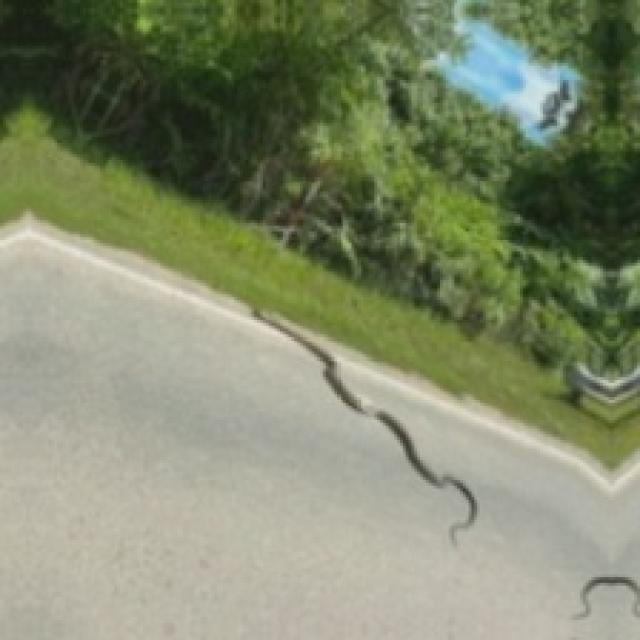king cobra: (251, 309, 474, 540)
